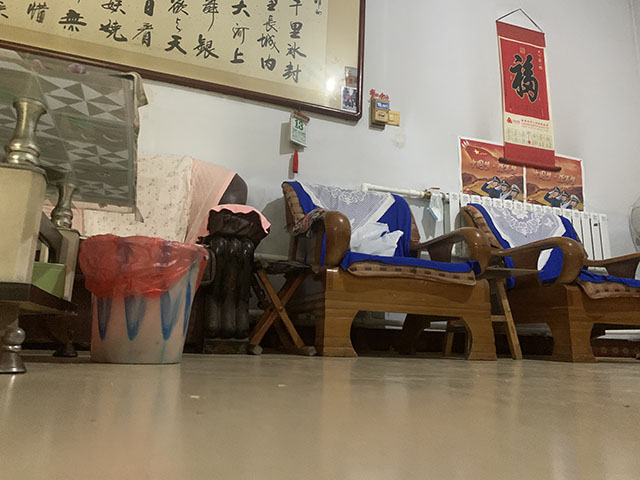sofa: (71, 148, 272, 355), (278, 179, 498, 361), (457, 203, 640, 364)
stool: (443, 266, 525, 361), (241, 259, 320, 357)
table: (1, 44, 149, 377)
trashcan: (77, 234, 210, 365)
